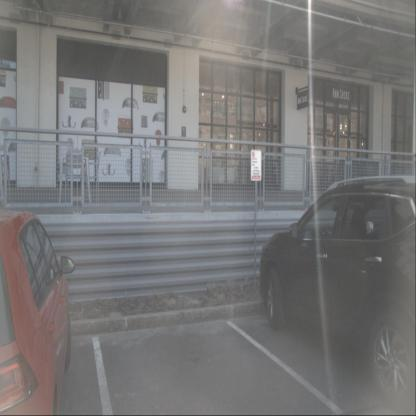vehicle-car: (259, 180, 415, 415), (0, 210, 72, 416)
